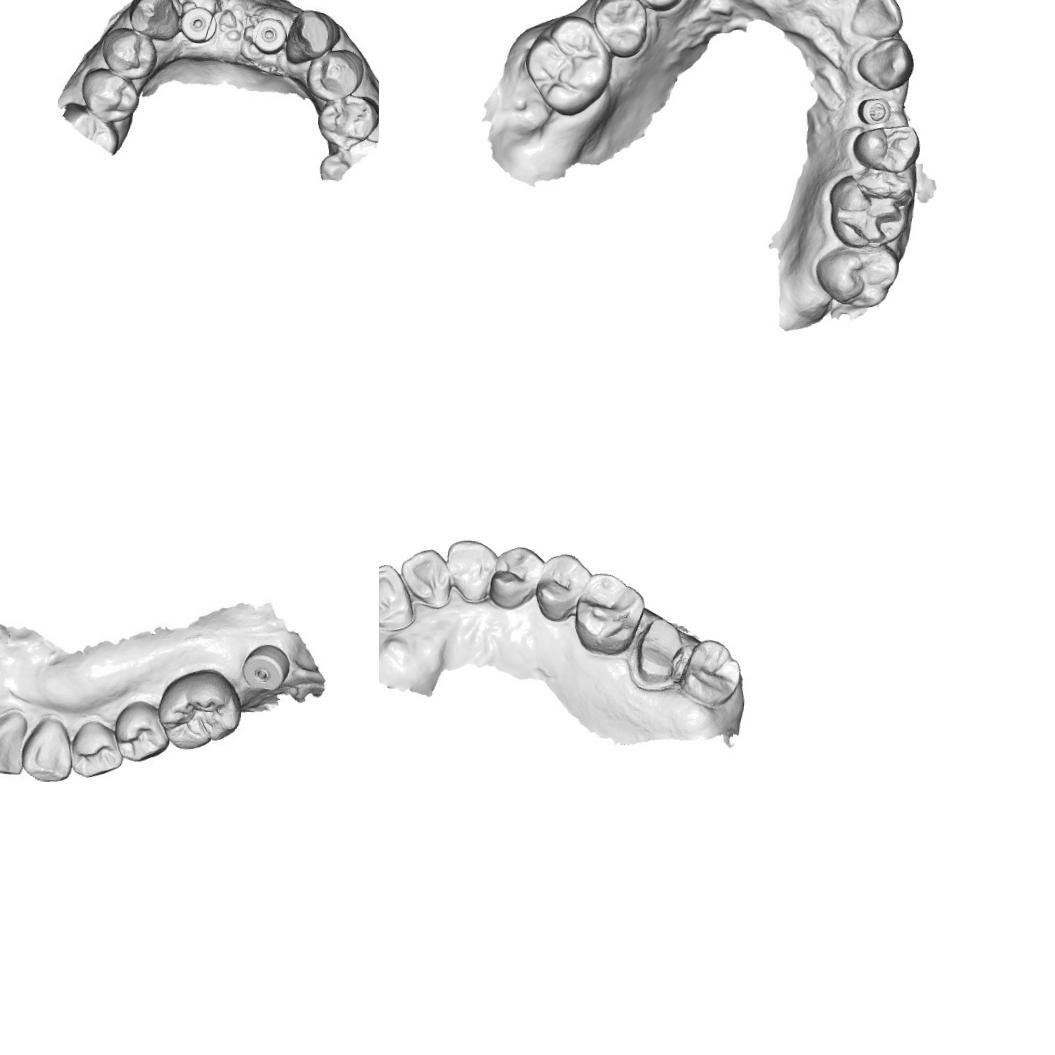canine: (21, 712, 76, 788), (442, 536, 500, 606), (854, 34, 916, 92), (283, 4, 339, 64), (125, 0, 181, 40)
crown: (624, 613, 690, 692)
implant: (240, 640, 290, 694), (177, 4, 221, 46), (244, 15, 286, 56), (854, 94, 894, 126)
incisor: (396, 544, 454, 610), (379, 558, 418, 633), (848, 0, 906, 40), (0, 708, 25, 772)
inlay: (827, 176, 912, 247)
molar: (519, 11, 616, 119), (155, 662, 240, 756), (570, 570, 648, 659), (812, 241, 900, 310), (676, 636, 744, 711)
premolar: (532, 549, 592, 624), (312, 91, 379, 155), (108, 696, 170, 764), (75, 64, 142, 126), (849, 121, 922, 176), (487, 542, 543, 613), (95, 22, 158, 85), (300, 45, 366, 104), (589, 0, 650, 61), (64, 714, 122, 778), (619, 0, 688, 14)
